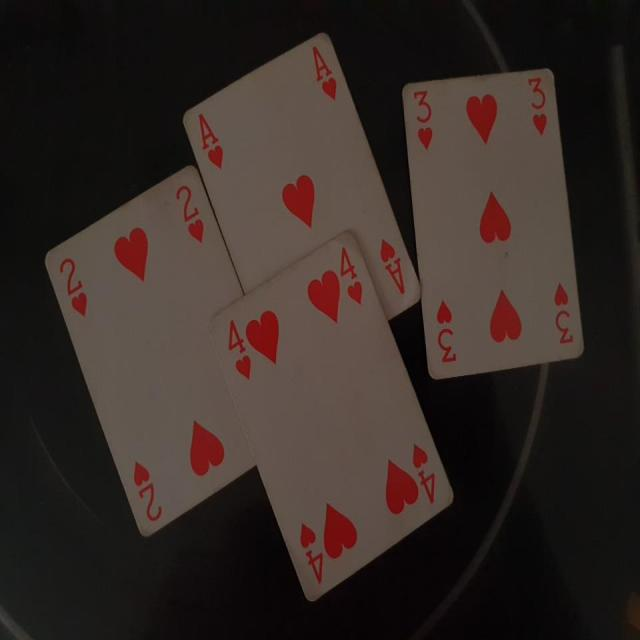2 Hearts: (41, 166, 290, 545)
3 Hearts: (394, 65, 584, 380)
4 Hearts: (203, 224, 457, 605)
A Hearts: (177, 28, 429, 328)
